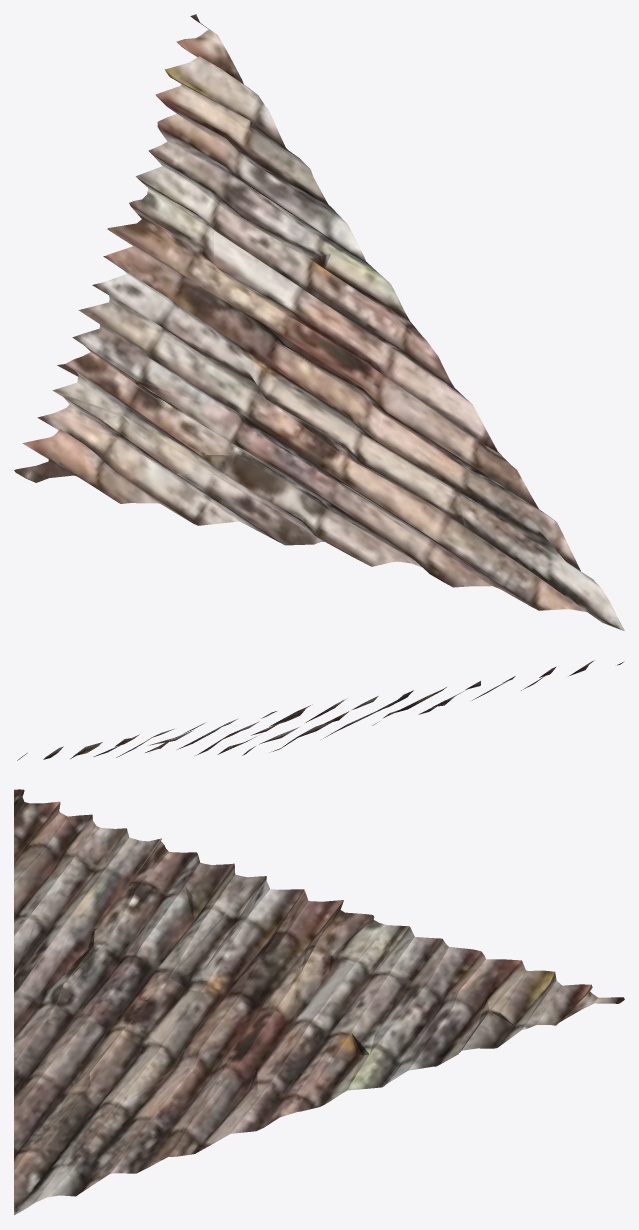
3 renders of one model, top to bottom at view 1: azimuth 30°, elevation 25°; view 2: azimuth 150°, elevation 25°; view 3: azimuth 270°, elevation 25°, orthographic. The views are drawn at different scales.
Bounding box in the file's own units: 2.24 × 1.07 × 2.75.
Materials: 1 (1 with a texture image).
